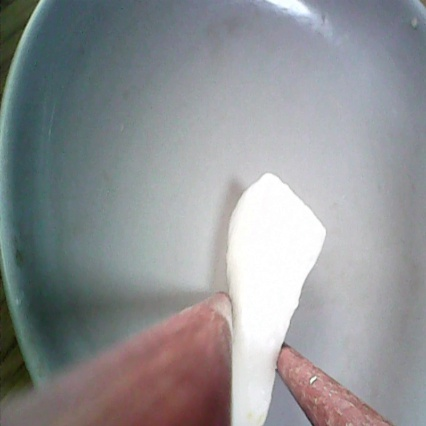white_chinese-yam: (213, 164, 330, 426)
